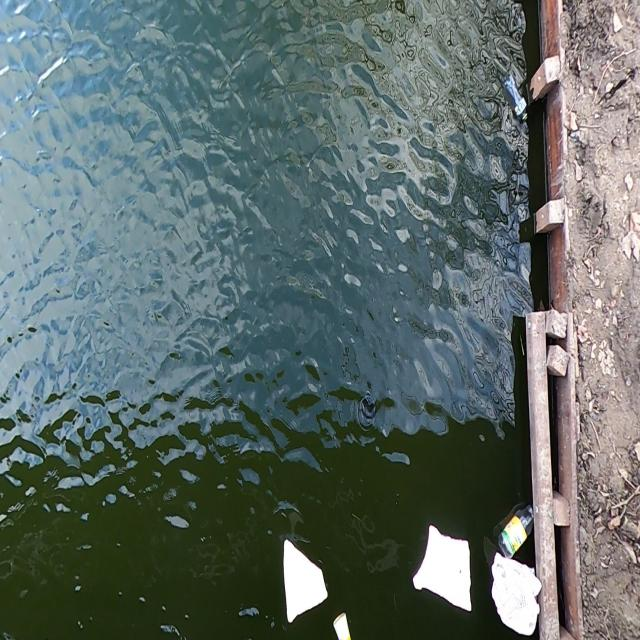Autre plastique: (409, 520, 475, 620), (483, 551, 544, 640), (279, 533, 329, 629)
Bouteille plastique: (498, 502, 534, 560), (503, 71, 531, 128)
Non plastique: (329, 609, 353, 640)
